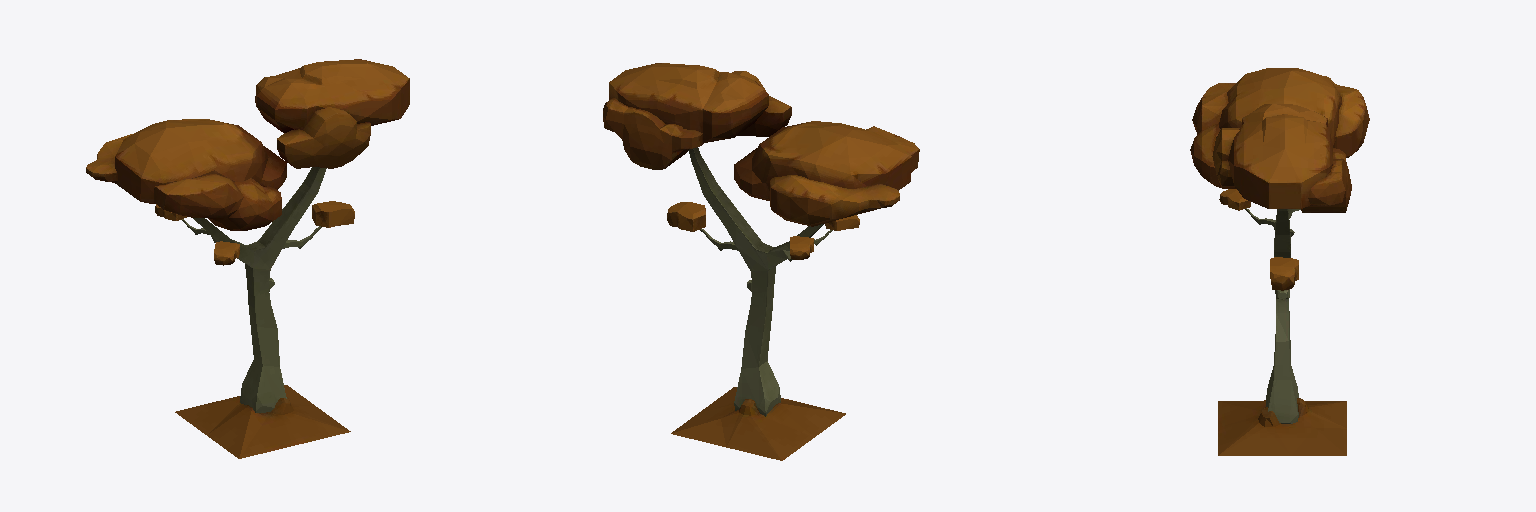
3 renders of one model, left to right at view 1: azimuth 30°, elevation 25°; view 2: azimuth 150°, elevation 25°; view 3: azimuth 270°, elevation 25°, orthographic.
Parts seen in each view (by area): view 1: FOL_Foliage_06; view 2: FOL_Foliage_06; view 3: FOL_Foliage_06.
Boxes of the visible parts, <box> form: FOL_Foliage_06: <box>86,59,409,458</box>; FOL_Foliage_06: <box>603,63,919,460</box>; FOL_Foliage_06: <box>1190,68,1369,455</box>.
Size of the model in its own units: 3.17 by 3.5 by 1.67.
Materials: 1 (1 with a texture image).